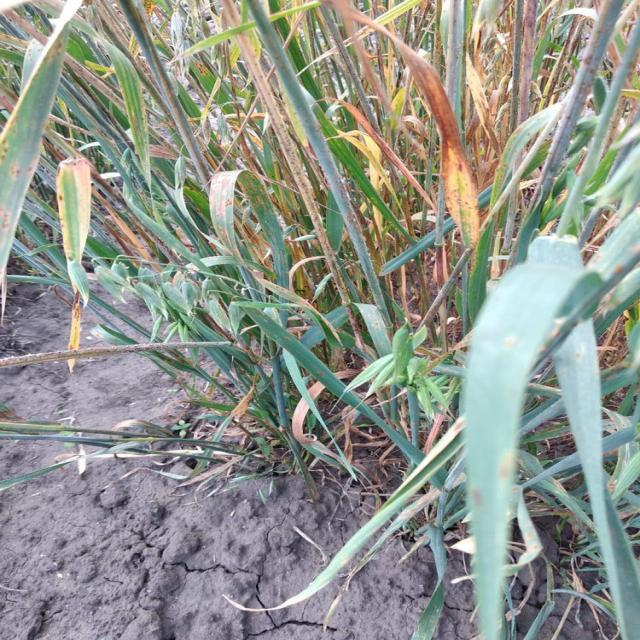wheat-stemrust: (234, 30, 348, 303), (352, 8, 481, 186), (310, 98, 435, 210), (0, 341, 228, 368), (343, 305, 365, 353), (41, 39, 62, 70), (70, 290, 82, 324), (365, 313, 381, 335), (349, 209, 360, 233), (0, 134, 9, 163), (195, 63, 212, 76), (11, 158, 21, 179), (0, 205, 10, 226), (26, 156, 37, 173), (581, 83, 593, 95), (251, 310, 269, 318), (581, 55, 594, 66), (562, 114, 574, 123), (225, 198, 233, 208), (282, 336, 293, 343), (317, 371, 326, 379), (484, 220, 491, 229), (246, 345, 250, 351)
